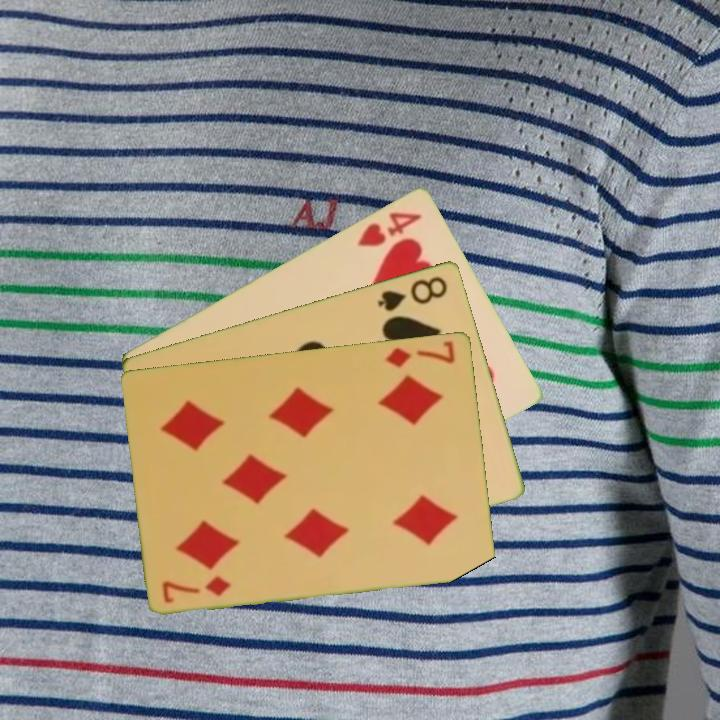4h: (354, 207, 425, 249)
7d: (382, 336, 458, 370), (159, 572, 234, 606)
8s: (374, 272, 451, 314)
